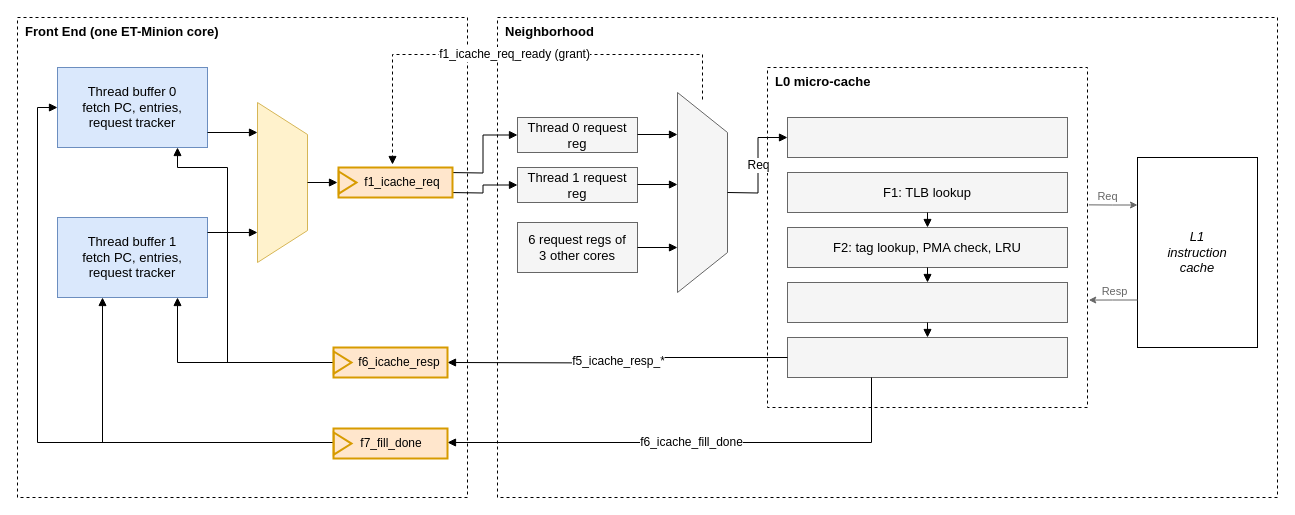
This 1295x515 diagram has some shape labels left out. Each missing label, with the centre of its shape:
2:1 LRU: [282,182]
8:1 LRU: [702,192]
F0: Arbitrations: [927,137]
F3: data array read: [927,302]
F4: response: [927,357]
